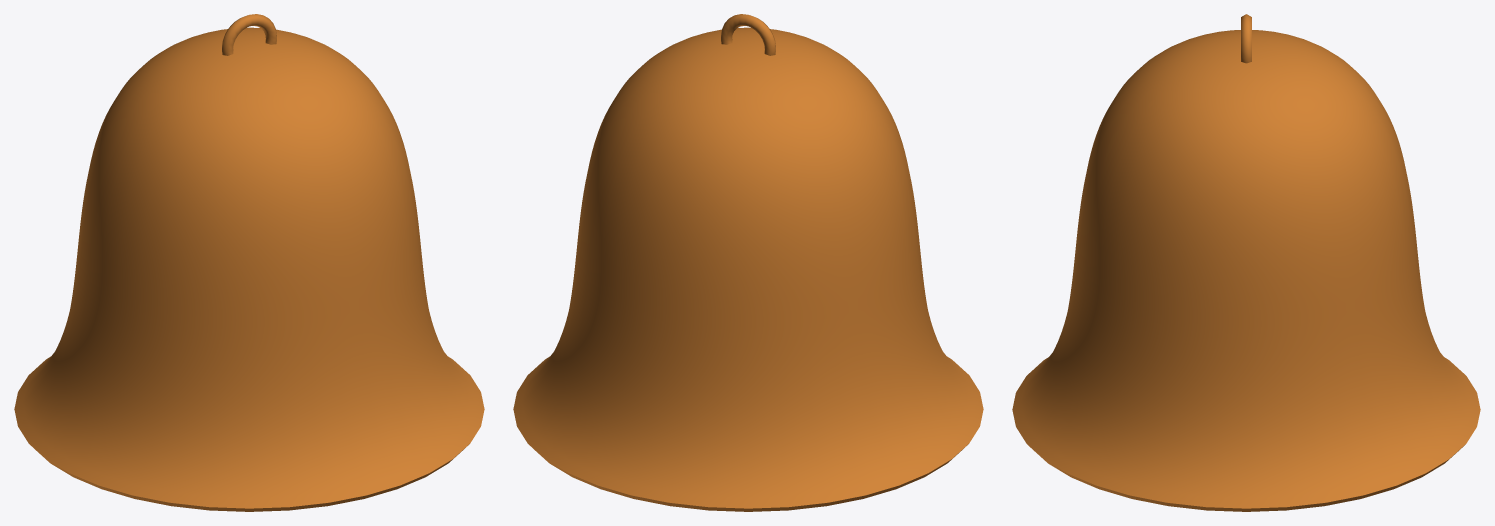
The model's file is I_Tower_Bell.fbx.
The picture shows the model from 3 angles, left to right: view 1: azimuth 30°, elevation 25°; view 2: azimuth 150°, elevation 25°; view 3: azimuth 270°, elevation 25°; orthographic projection.
Parts seen in each view (by area): view 1: NurbsPath; view 2: NurbsPath; view 3: NurbsPath.
Part boxes in pixels (box(x1,y1,x2,y2)): NurbsPath: box(14, 14, 484, 511); NurbsPath: box(513, 14, 983, 511); NurbsPath: box(1012, 14, 1480, 511).
Bounding box in the file's own units: 353 × 376 × 353.
